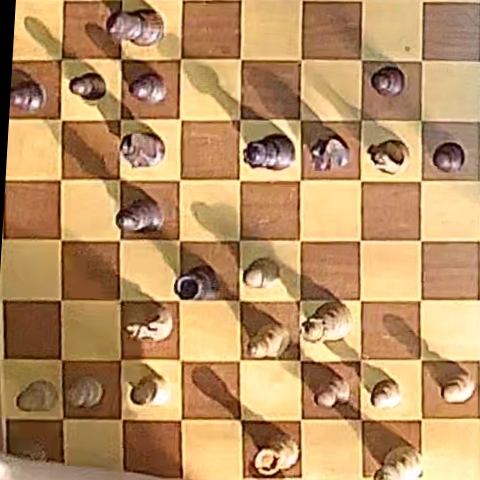black-bishop: (116, 197, 162, 233)
black-king: (107, 8, 163, 46)
black-knight: (119, 132, 164, 167), (310, 136, 349, 171)
black-pawn: (130, 73, 167, 104), (11, 80, 47, 111), (371, 65, 405, 97), (70, 72, 107, 101), (432, 142, 465, 173)
black-queen: (244, 135, 294, 170)
black-rook: (174, 265, 218, 300)
white-bishop: (248, 321, 291, 358)
white-king: (375, 445, 422, 479)
white-knight: (125, 304, 172, 343), (368, 140, 409, 174)
white-pawn: (17, 379, 58, 411), (313, 374, 350, 408), (67, 376, 104, 409), (130, 375, 167, 407), (441, 370, 476, 403), (243, 258, 279, 288), (371, 379, 402, 409)
white-queen: (303, 302, 352, 343)
white-rook: (255, 436, 298, 476)
